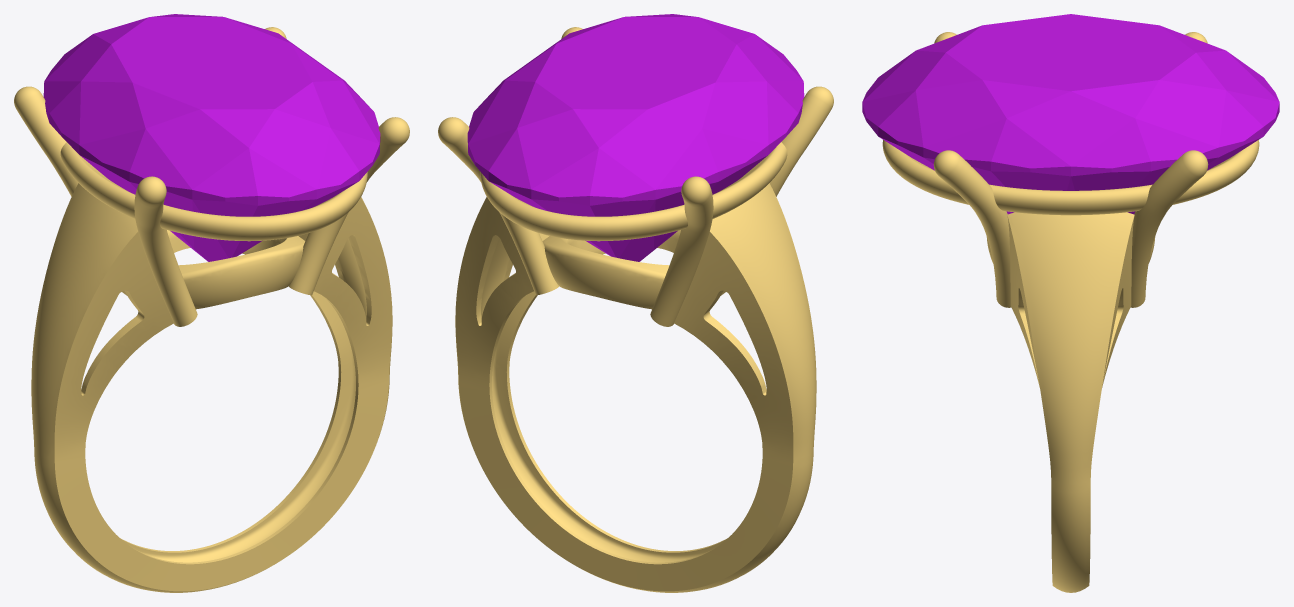
File: JimGygame_blender.glb
The picture shows the model from 3 angles, left to right: view 1: azimuth 30°, elevation 25°; view 2: azimuth 150°, elevation 25°; view 3: azimuth 270°, elevation 25°; orthographic projection.
Parts seen in each view (by area): view 1: Jim YG for 3d model, Jim amethyst for 3d model; view 2: Jim YG for 3d model, Jim amethyst for 3d model; view 3: Jim amethyst for 3d model, Jim YG for 3d model.
Part boxes in pixels (x1,y1,x2,y2): Jim YG for 3d model: (14, 27, 409, 592); Jim amethyst for 3d model: (43, 14, 380, 261); Jim YG for 3d model: (438, 27, 833, 592); Jim amethyst for 3d model: (467, 14, 804, 261); Jim amethyst for 3d model: (862, 14, 1279, 214); Jim YG for 3d model: (882, 32, 1259, 592).
Bounding box in the file's own units: 20.43 × 29.09 × 21.12.
